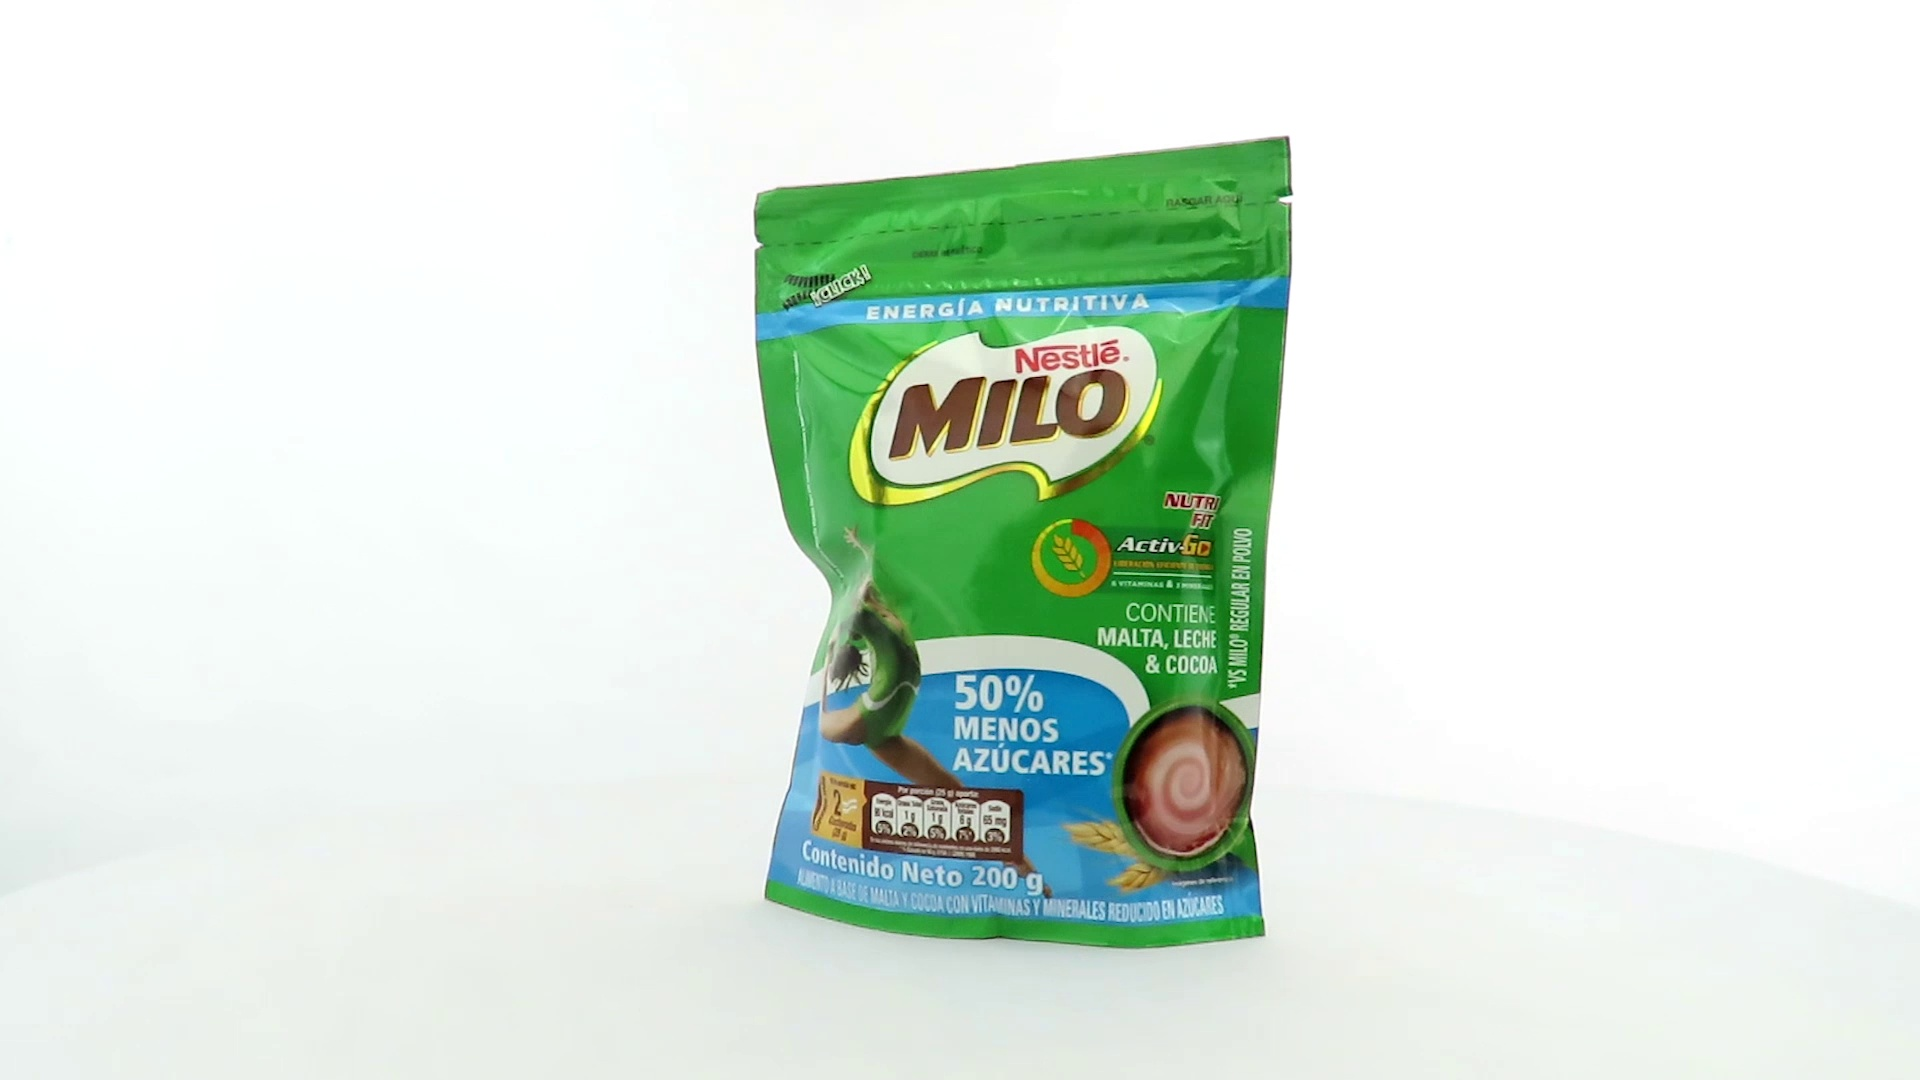COL0170205DYP20000: (748, 131, 1299, 956)
